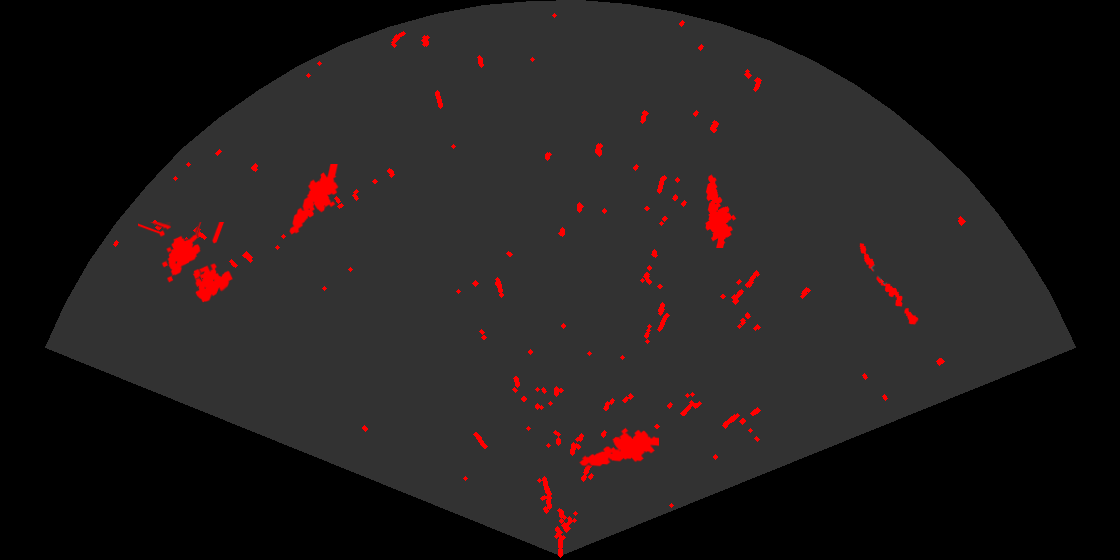cage: (138, 222, 234, 304)
chain: (858, 241, 920, 326)
frogman: (288, 164, 340, 236), (578, 426, 659, 468), (704, 173, 738, 248)
